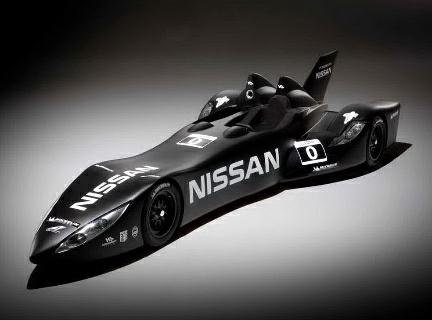日产-DeltaWing: (21, 50, 412, 274)
